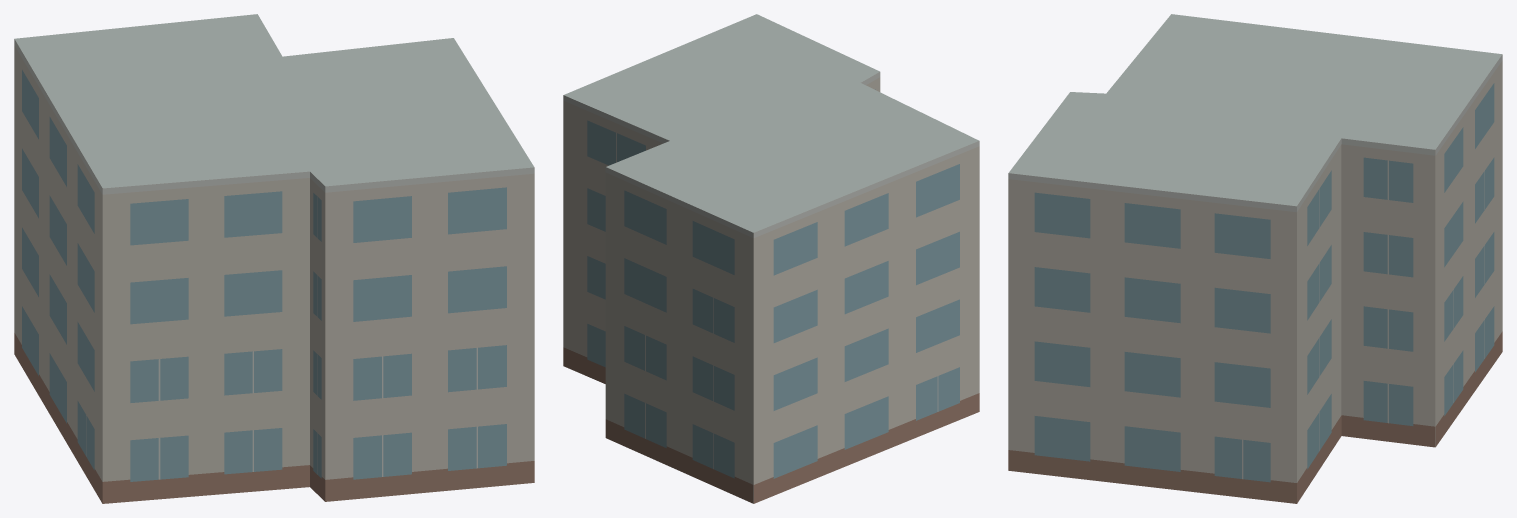
Rendered from survey-upis-32692314.glb.
The picture shows the model from 3 angles, left to right: view 1: azimuth 30°, elevation 25°; view 2: azimuth 150°, elevation 25°; view 3: azimuth 270°, elevation 25°; orthographic projection. The views are drawn at different scales.
Parts seen in each view (by area): view 1: survey-upis-32692314.tmp; view 2: survey-upis-32692314.tmp; view 3: survey-upis-32692314.tmp.
Part boxes in pixels (x1,y1,x2,y2): survey-upis-32692314.tmp: [14, 14, 534, 503]; survey-upis-32692314.tmp: [563, 14, 979, 503]; survey-upis-32692314.tmp: [1008, 14, 1502, 503].
Size of the model in its own units: 16.92 by 12.2 by 18.37.
